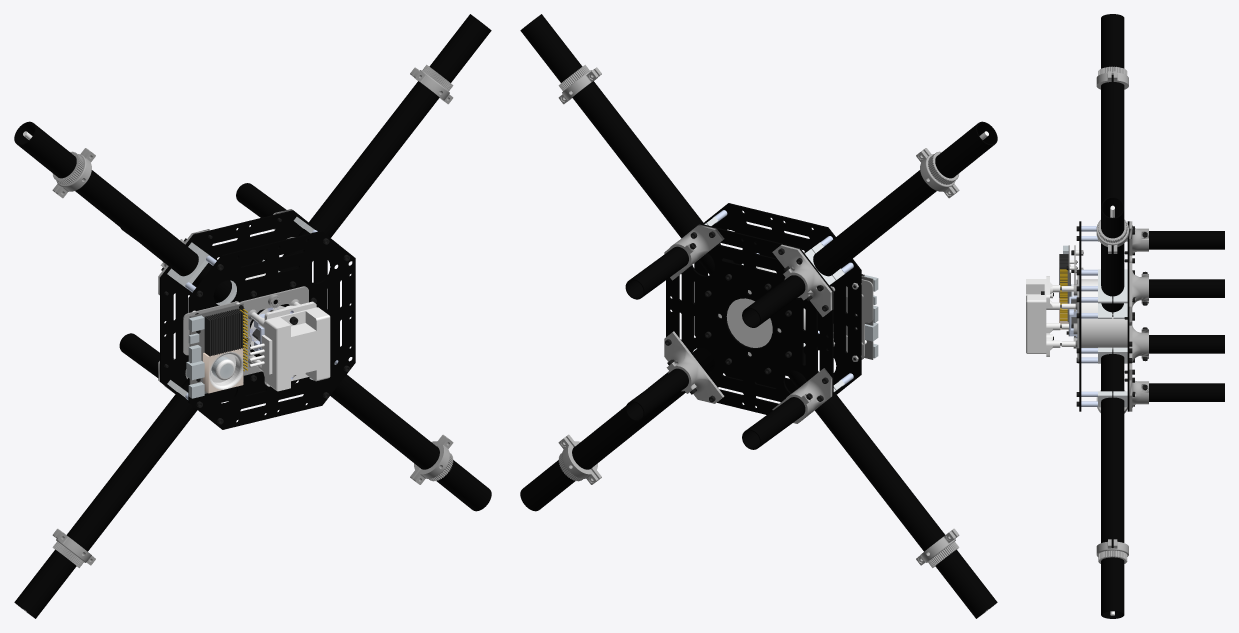
File: main_body.dae
3 views of the same model, side by side, from view 1: azimuth 30°, elevation 25°; view 2: azimuth 150°, elevation 25°; view 3: azimuth 270°, elevation 25° (orthographic). The views are drawn at different scales.
Visible parts, largest first — view 1: node150, node174, node173, node149, node176, node103, node175, node142, node145, node181, node152, node171 (+5 smaller); view 2: node149, node173, node174, node150, node176, node175, node167, node165, node169, node171, node172, node170 (+8 smaller); view 3: node175, node176, node174, node168, node103, node169, node170, node171, node172, node164, node166, node153 (+10 smaller).
Part boxes in pixels (x1=…): node150: x1=188, y1=231, x2=355, y2=429; node174: x1=279, y1=14, x2=491, y2=271; node173: x1=14, y1=378, x2=197, y2=618; node149: x1=160, y1=210, x2=327, y2=402; node176: x1=14, y1=121, x2=231, y2=302; node103: x1=249, y1=307, x2=330, y2=391; node175: x1=308, y1=374, x2=491, y2=511; node142: x1=204, y1=308, x2=242, y2=356; node145: x1=186, y1=315, x2=233, y2=398; node181: x1=240, y1=286, x2=308, y2=375; node152: x1=52, y1=148, x2=95, y2=198; node171: x1=119, y1=333, x2=159, y2=377; node149: x1=666, y1=223, x2=833, y2=414; node173: x1=786, y1=352, x2=997, y2=618; node174: x1=520, y1=14, x2=734, y2=274; node150: x1=694, y1=203, x2=861, y2=394; node176: x1=797, y1=121, x2=997, y2=298; node175: x1=520, y1=348, x2=714, y2=511; node167: x1=664, y1=331, x2=724, y2=403; node165: x1=772, y1=244, x2=832, y2=316; node169: x1=742, y1=275, x2=805, y2=327; node171: x1=742, y1=397, x2=805, y2=449; node172: x1=625, y1=368, x2=688, y2=421; node170: x1=625, y1=246, x2=688, y2=299; node175: x1=1101, y1=352, x2=1124, y2=618; node176: x1=1101, y1=14, x2=1124, y2=207; node174: x1=1101, y1=197, x2=1124, y2=313; node168: x1=1081, y1=279, x2=1127, y2=349; node103: x1=1026, y1=279, x2=1046, y2=353; node169: x1=1149, y1=231, x2=1224, y2=249; node170: x1=1149, y1=279, x2=1224, y2=297; node171: x1=1149, y1=335, x2=1224, y2=353; node172: x1=1149, y1=383, x2=1224, y2=401; node164: x1=1129, y1=255, x2=1148, y2=325; node166: x1=1129, y1=325, x2=1148, y2=369; node153: x1=1096, y1=539, x2=1128, y2=563.
Bounding box in the file's own units: 0.502 × 0.502 × 0.2145.
